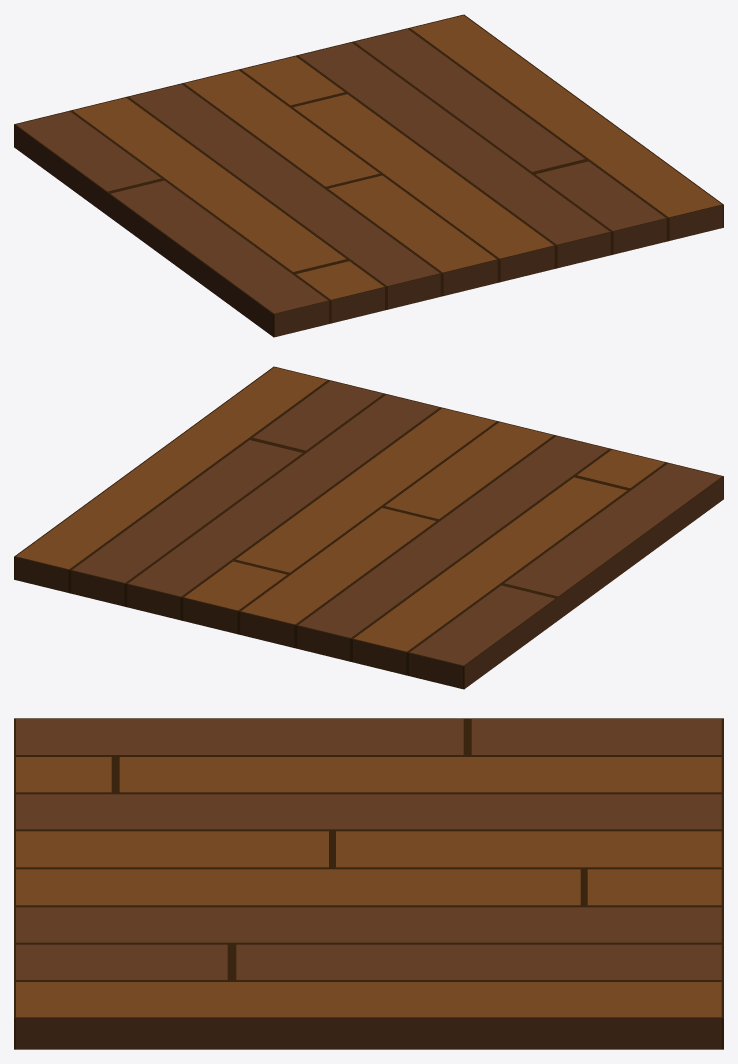
Rendered from Environment_Wood_Board.fbx.
3 renders of one model, top to bottom at view 1: azimuth 30°, elevation 25°; view 2: azimuth 150°, elevation 25°; view 3: azimuth 270°, elevation 25°, orthographic. The views are drawn at different scales.
Parts seen in each view (by area): view 1: Environment_Floor; view 2: Environment_Floor; view 3: Environment_Floor.
Boxes of the visible parts, <box> form: Environment_Floor: <box>14,14,723,337</box>; Environment_Floor: <box>14,366,723,689</box>; Environment_Floor: <box>14,718,723,1049</box>.
Size of the model in its own units: 400 by 19.58 by 400.
